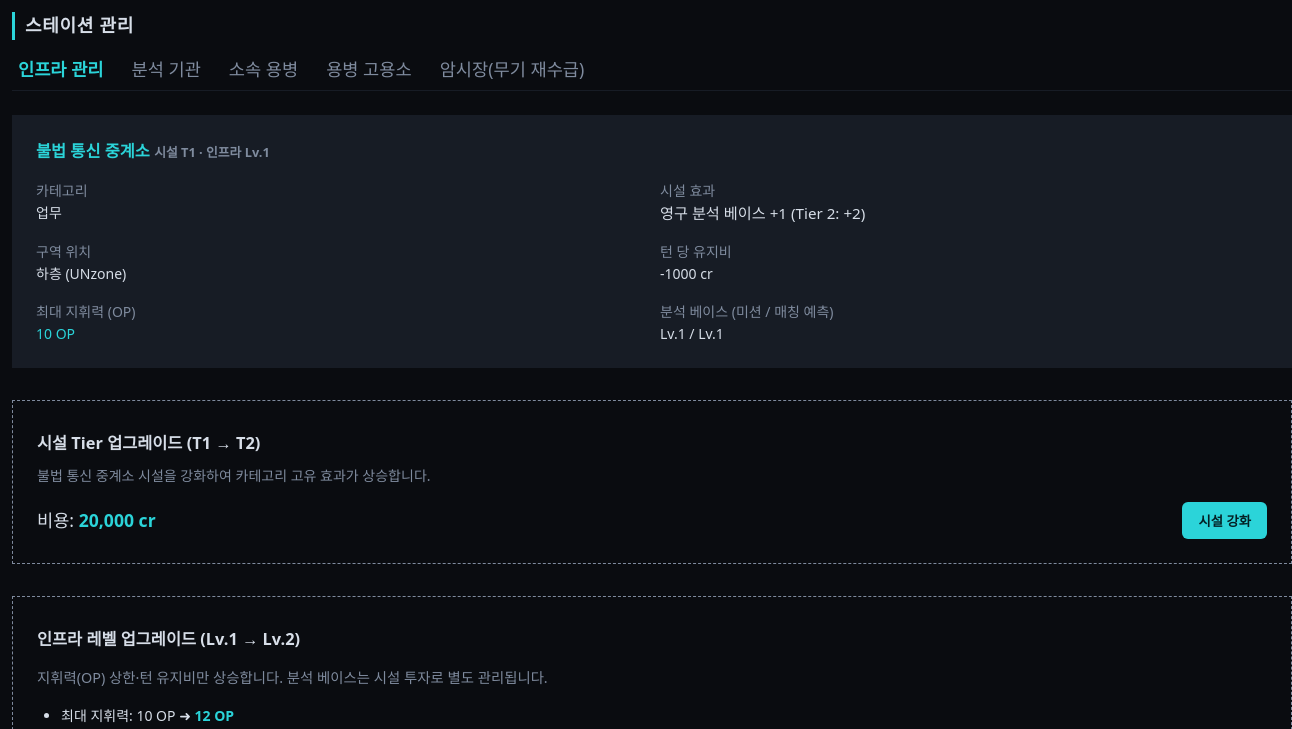
StationView 컴포넌트 단위 테스트 › 분석 기관 탭 (T-DE-UI) › T-DE-UI-1: 분석 기관 탭에서 미션 슬롯 select와 매칭 예측 준비 중 카드가 렌더링된다
The width and height of the screenshot is (1292, 729).
Step 1. Click the button "분석 기관" → [166, 68], box [126, 55, 207, 82]
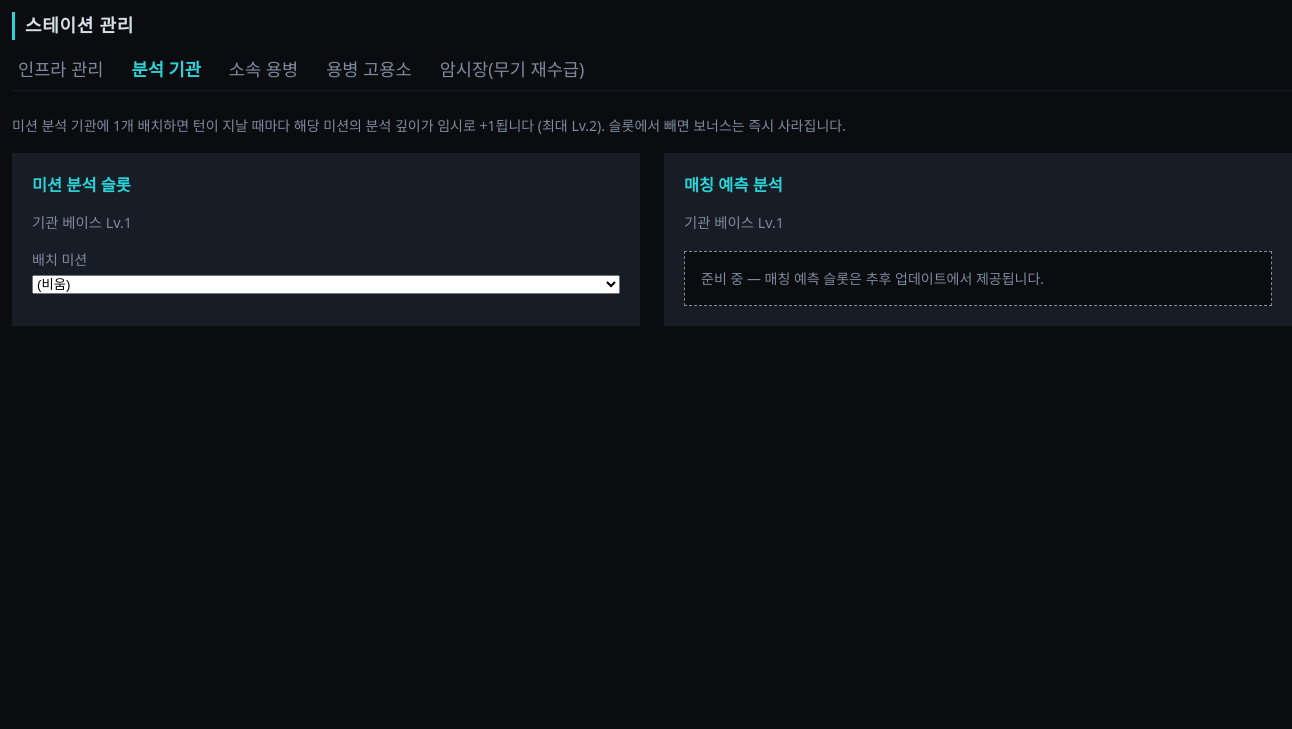
Expected: the dropdown named "미션 분석 슬롯" is shown, [32, 275, 620, 294]
Expected: the text "준비 중 — 매칭 예측 슬롯은 추후 업데이트에서 제공됩니다." is shown, [684, 251, 1272, 306]
